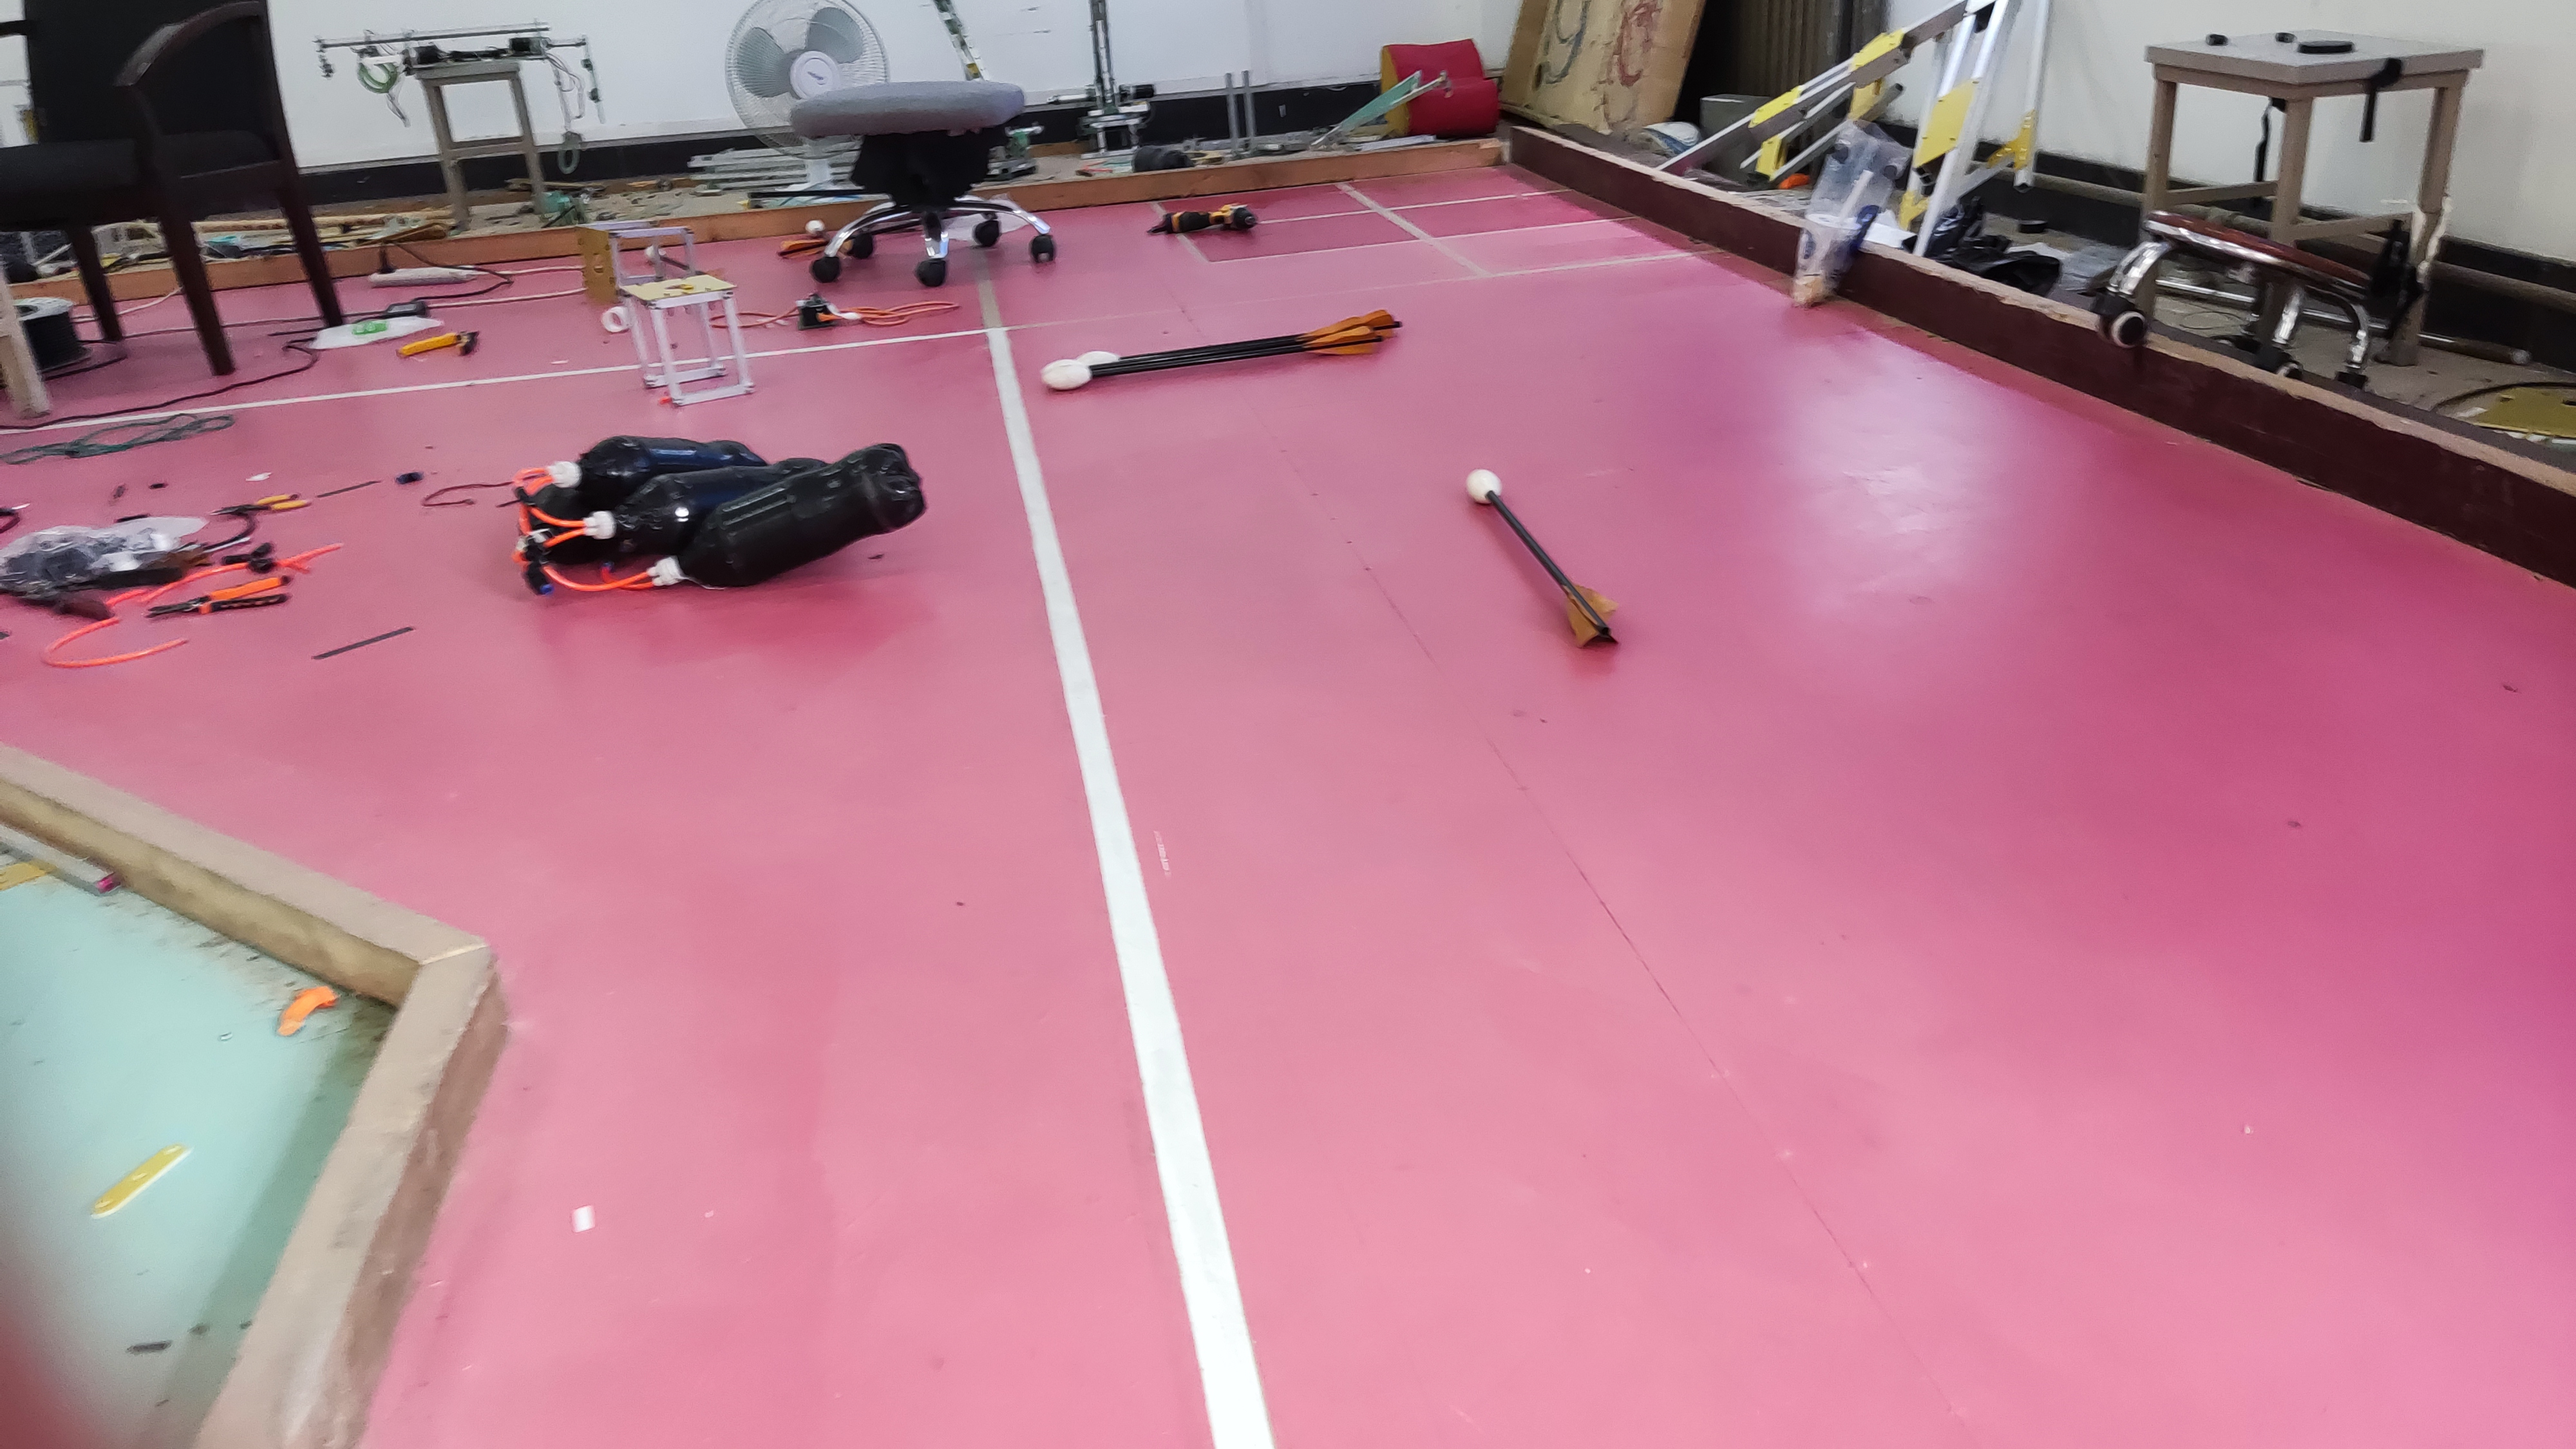arrow: (1039, 303, 1412, 391), (1460, 462, 1629, 653)
arrowFront: (1040, 356, 1099, 387), (1463, 469, 1504, 506)
